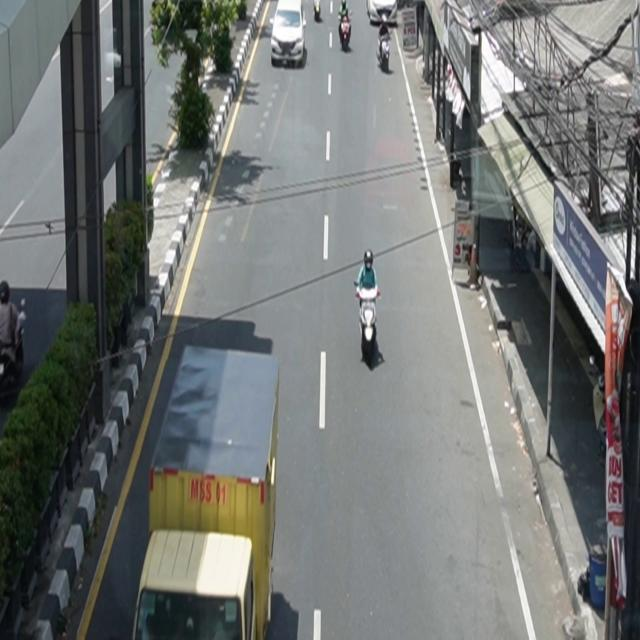bus: (133, 344, 280, 640)
car: (271, 1, 307, 68), (367, 1, 398, 26)
